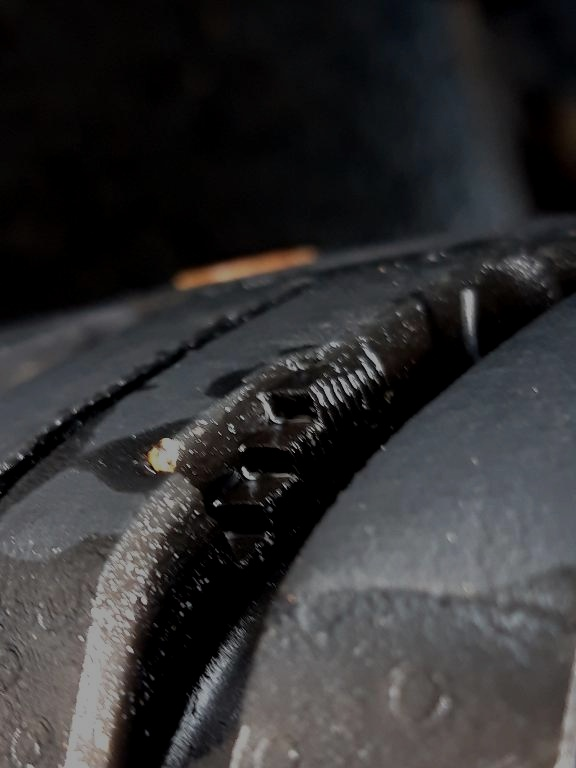temoin:80: (134, 327, 420, 594)
